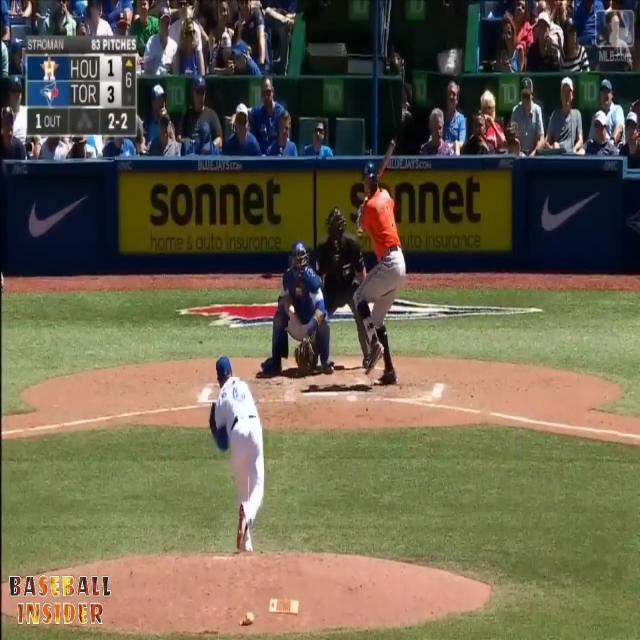baseball: (288, 304, 295, 316)
